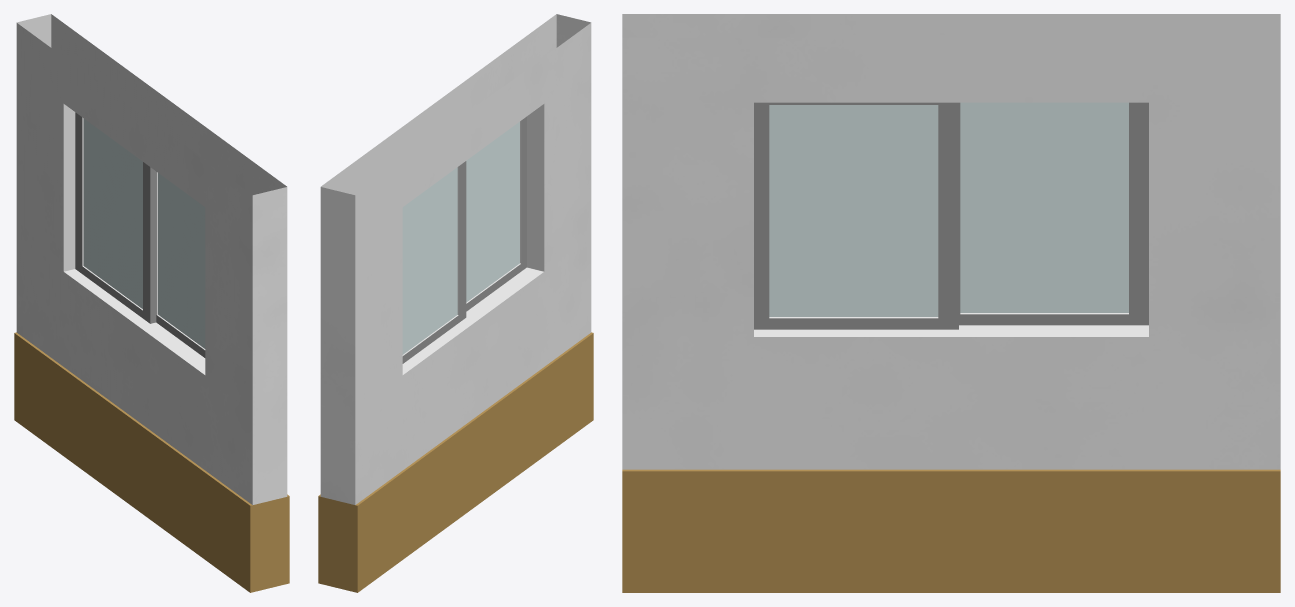
File: room_wall_D.fbx
3 views of the same model, side by side, from view 1: azimuth 30°, elevation 25°; view 2: azimuth 150°, elevation 25°; view 3: azimuth 270°, elevation 25° (orthographic). The views are drawn at different scales.
Visible parts, largest first — view 1: pCube76; view 2: pCube76; view 3: pCube76.
Part boxes in pixels (left/top/right/bottom): pCube76: left=14, top=14, right=289, bottom=592; pCube76: left=318, top=14, right=593, bottom=592; pCube76: left=622, top=14, right=1280, bottom=592.
Size of the model in its own units: 1.71 by 16.44 by 17.72.
Materials: 1 (1 with a texture image).
